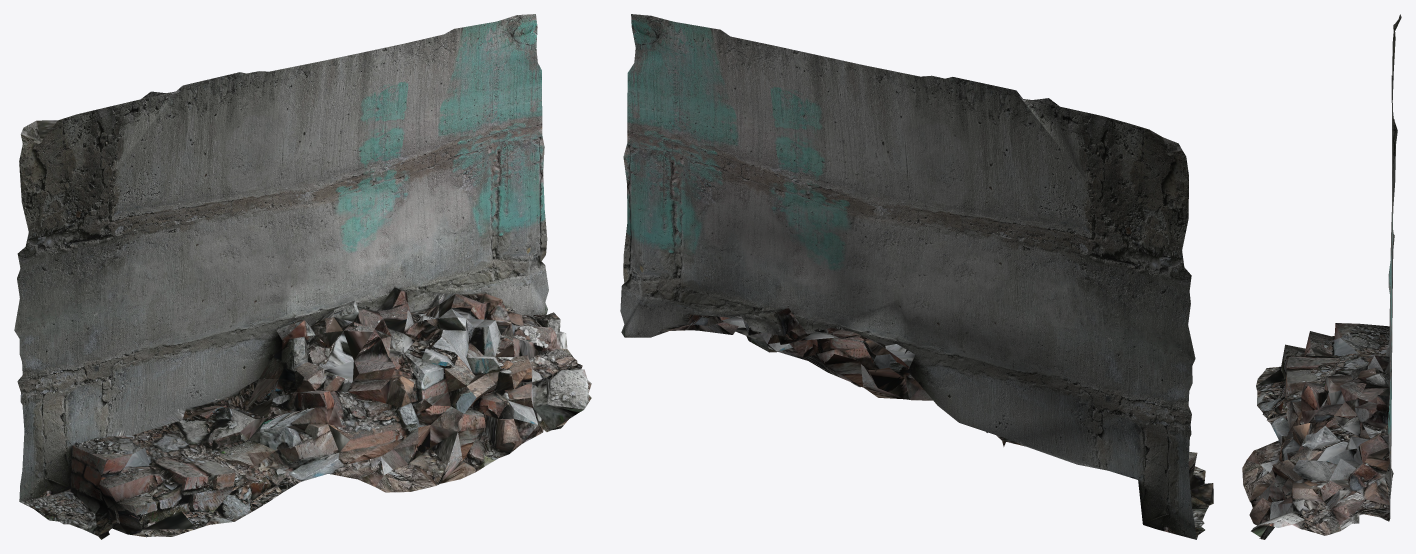
Rendered from pared en ruinas MODELO3D.fbx.
3 renders of one model, left to right at view 1: azimuth 30°, elevation 25°; view 2: azimuth 150°, elevation 25°; view 3: azimuth 270°, elevation 25°, orthographic. The views are drawn at different scales.
Parts seen in each view (by area): view 1: Debris of bricks and a wall; view 2: Debris of bricks and a wall; view 3: Debris of bricks and a wall.
Boxes of the visible parts, bbox=[...] form: Debris of bricks and a wall: bbox=[14, 14, 591, 539]; Debris of bricks and a wall: bbox=[620, 14, 1213, 539]; Debris of bricks and a wall: bbox=[1242, 14, 1401, 539].
Bounding box in the file's own units: 293 × 204 × 83.91.
1 material, 1 textured.
